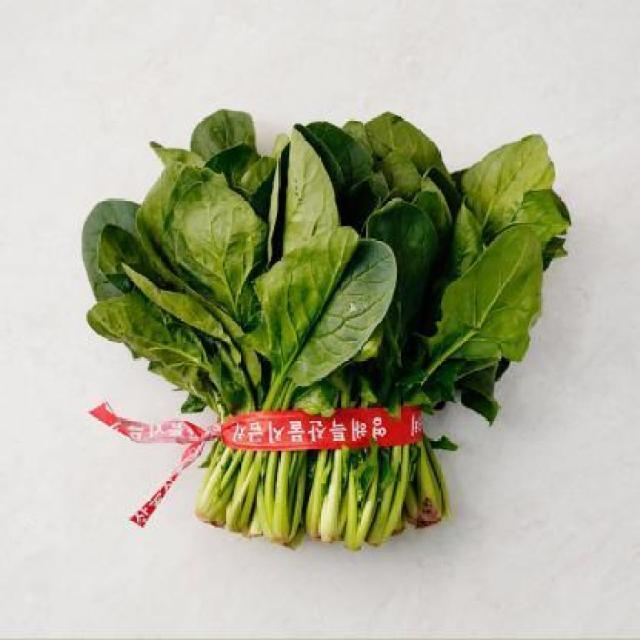Spinach: (70, 72, 586, 571)
